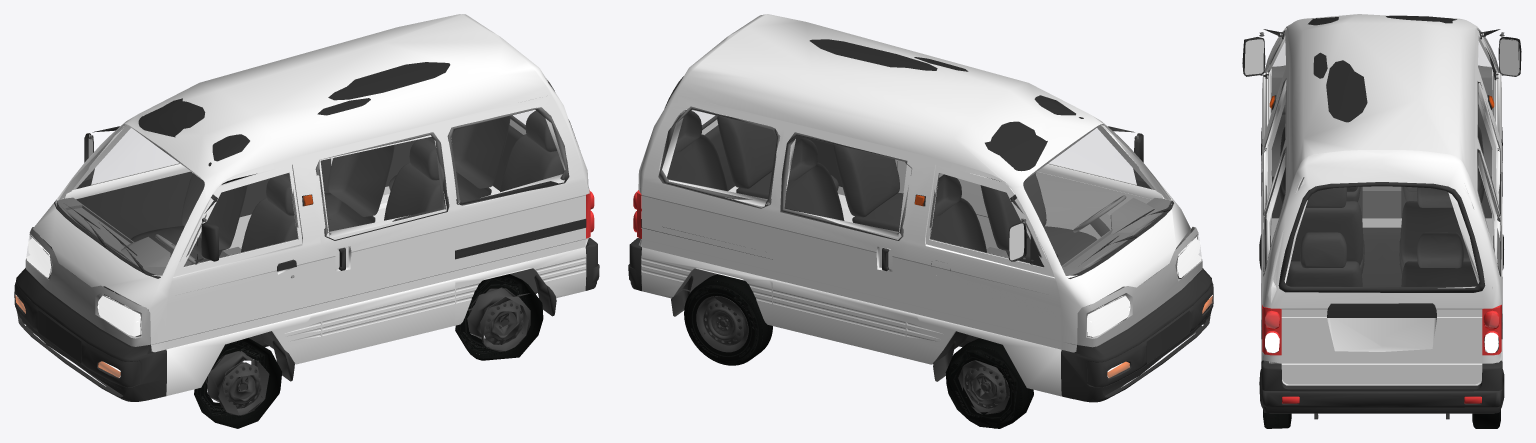
Rendered from damas.glb.
The picture shows the model from 3 angles, left to right: view 1: azimuth 30°, elevation 25°; view 2: azimuth 150°, elevation 25°; view 3: azimuth 270°, elevation 25°; orthographic projection. The views are drawn at different scales.
Parts seen in each view (by area): view 1: Object_12, Object_17, Object_14, Object_19, Object_25, Object_11, Object_22, Object_21, Object_18, Object_23, Object_24; view 2: Object_12, Object_17, Object_14, Object_19, Object_11, Object_25, Object_22, Object_21, Object_18, Object_23, Object_24; view 3: Object_12, Object_17, Object_14, Object_19, Object_18, Object_22, Object_2, Object_3, Object_11, Object_23, Object_10, Object_24.
Boxes of the visible parts, x1,y1,x2,y2 form: Object_12: [33, 14, 589, 395]; Object_17: [26, 110, 564, 335]; Object_14: [76, 62, 564, 264]; Object_19: [14, 80, 599, 401]; Object_25: [92, 126, 530, 415]; Object_11: [194, 274, 543, 428]; Object_22: [29, 107, 569, 336]; Object_21: [25, 227, 294, 346]; Object_18: [34, 197, 241, 377]; Object_23: [15, 235, 141, 377]; Object_24: [22, 268, 586, 405]; Object_12: [638, 14, 1190, 396]; Object_17: [663, 109, 1201, 336]; Object_14: [667, 39, 1097, 265]; Object_19: [628, 76, 1213, 402]; Object_11: [684, 274, 1033, 428]; Object_25: [696, 126, 1134, 414]; Object_22: [658, 106, 1198, 337]; Object_21: [936, 227, 1202, 347]; Object_18: [986, 195, 1192, 345]; Object_23: [641, 196, 1212, 377]; Object_24: [633, 268, 1205, 405]; Object_12: [1261, 14, 1502, 385]; Object_17: [1266, 41, 1497, 286]; Object_14: [1270, 15, 1493, 286]; Object_19: [1242, 37, 1521, 413]; Object_18: [1271, 65, 1492, 217]; Object_22: [1259, 32, 1504, 276]; Object_2: [1244, 38, 1519, 75]; Object_3: [1262, 304, 1501, 403]; Object_11: [1263, 360, 1500, 428]; Object_23: [1265, 312, 1498, 352]; Object_10: [1265, 312, 1498, 329]; Object_24: [1264, 337, 1498, 419].
Size of what is drawn, in the model's own units: 8.64 by 4.77 by 4.04.
Materials: 15 (1 with a texture image).
